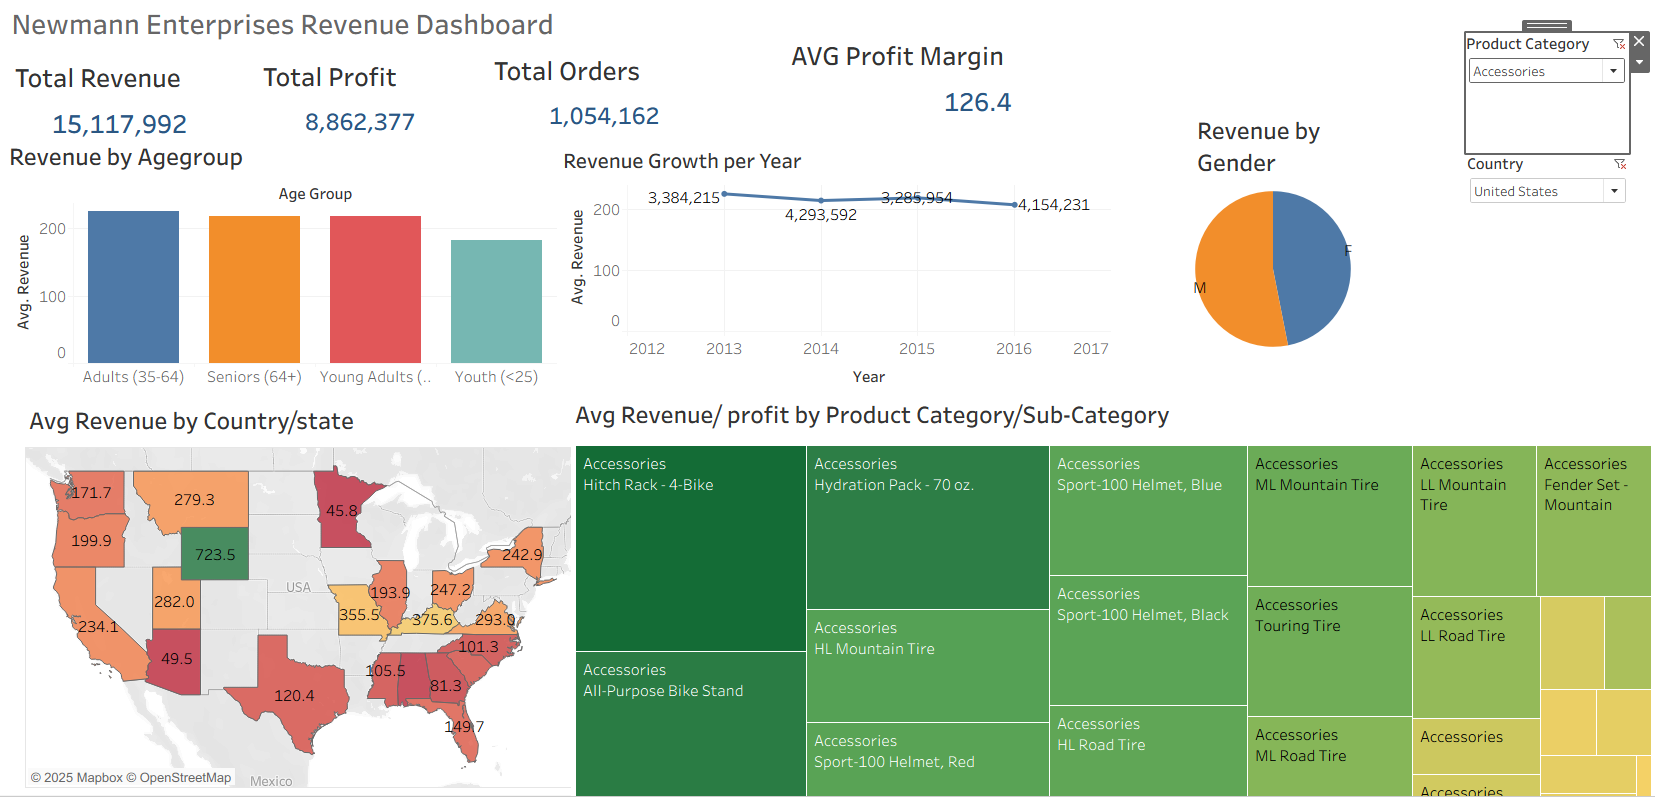

The dashboard page shown, as its layout file describes it:
{"tool":"tableau","page":{"name":"Dashboard 1","canvas":[1000,1000],"units":"permille","ordinal":0},"visuals":[{"type":"text","box":[6.1,16.2,484.4,41.2]},{"type":"filter","title":"Avg Revenue & Profit by Product Category/Sub-Category","param":"[federated.0wjb0k40xqyta31ev7q691blr6oo].[none:Product_Category:nk]","box":[886.1,48.7,98,149.8]},{"type":"worksheet","title":"Avg_Profit_Margin","mark":"Automatic","box":[476.4,49.9,138.4,139.8]},{"type":"worksheet","title":"Total Orders","mark":"Automatic","box":[297,68.7,104.7,103.6]},{"type":"worksheet","title":"Total Profit","mark":"Automatic","box":[157.4,76.2,97.4,112.4]},{"type":"worksheet","title":"Total Revenue","mark":"Automatic","box":[8,77.4,108.4,112.4]},{"type":"worksheet","title":"Revenue by gender","mark":"Pie","box":[721.4,144.8,191.7,333.3]},{"type":"worksheet","title":"revenue by agegroup","mark":"Automatic","rows":["Revenue"],"cols":["Age_Group"],"box":[4.3,177.3,333.1,333.3]},{"type":"filter","title":"revenue growth/year","param":"[federated.0wjb0k40xqyta31ev7q691blr6oo].[avg:Revenue:qk]","box":[234.5,184.8,98,81.2]},{"type":"worksheet","title":"revenue growth/year","mark":"Automatic","rows":["Revenue"],"cols":["Year"],"box":[338.6,184.8,333.1,314.6]},{"type":"filter","title":"Avg Revenue by country/state","param":"[federated.0wjb0k40xqyta31ev7q691blr6oo].[none:Country:nk]","box":[886.7,198.5,98,236]},{"type":"filter","title":"Avg Revenue & Profit by Product Category/Sub-Category","param":"[federated.0wjb0k40xqyta31ev7q691blr6oo].[avg:Revenue:qk]","box":[241.9,499.4,98,81.2]},{"type":"worksheet","title":"Avg Revenue by country/state","mark":"Automatic","box":[16.5,506.9,336.8,484.4]}]}

Visuals, with their boxes on the dashboard's canvas, which has no fixed pixel size, in thousandths of its width and height (x1, y1, x2, y2). These are canvas units, not pixel positions in the 1655x797 screenshot, which may show the page scaled, cropped or inside an application window:
text: bbox(6, 16, 490, 57)
"Avg Revenue & Profit by Product Category/Sub-Category" filter: bbox(886, 49, 984, 198)
"Avg_Profit_Margin" worksheet: bbox(476, 50, 615, 190)
"Total Orders" worksheet: bbox(297, 69, 402, 172)
"Total Profit" worksheet: bbox(157, 76, 255, 189)
"Total Revenue" worksheet: bbox(8, 77, 116, 190)
"Revenue by gender" worksheet (Pie marks): bbox(721, 145, 913, 478)
"revenue by agegroup" worksheet: bbox(4, 177, 337, 511)
"revenue growth/year" filter: bbox(234, 185, 332, 266)
"revenue growth/year" worksheet: bbox(339, 185, 672, 499)
"Avg Revenue by country/state" filter: bbox(887, 198, 985, 434)
"Avg Revenue & Profit by Product Category/Sub-Category" filter: bbox(242, 499, 340, 581)
"Avg Revenue by country/state" worksheet: bbox(16, 507, 353, 991)
